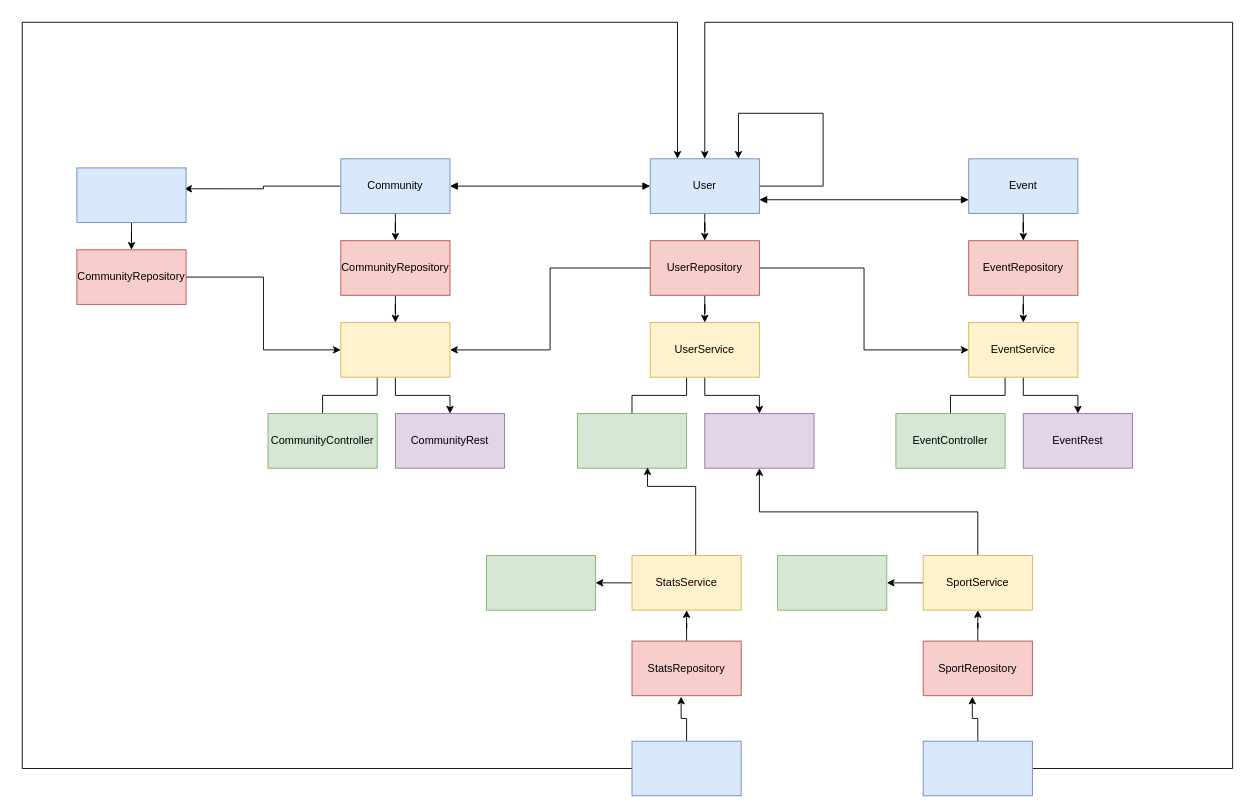
Image size: 1256x812. Some labels were removed from this diagram. The shapes that lost their labels are listed below. From the top down, each one's centre as x and y in pixels, then its label:
At point (131, 194): "News".
At point (395, 349): "CommunityService".
At point (631, 440): "UserController".
At point (759, 440): "UserRest".
At point (540, 582): "StatsController".
At point (832, 582): "SportController".
At point (686, 768): "Stats".
At point (977, 768): "Sport".
